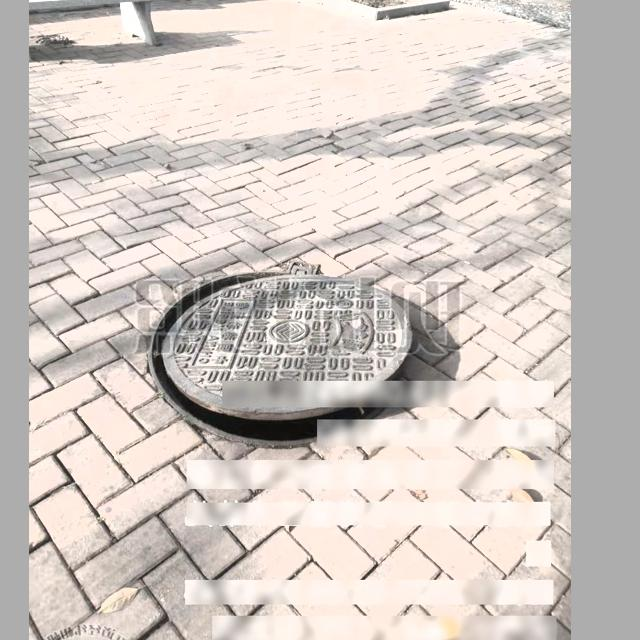uncovered: (147, 263, 411, 446)
